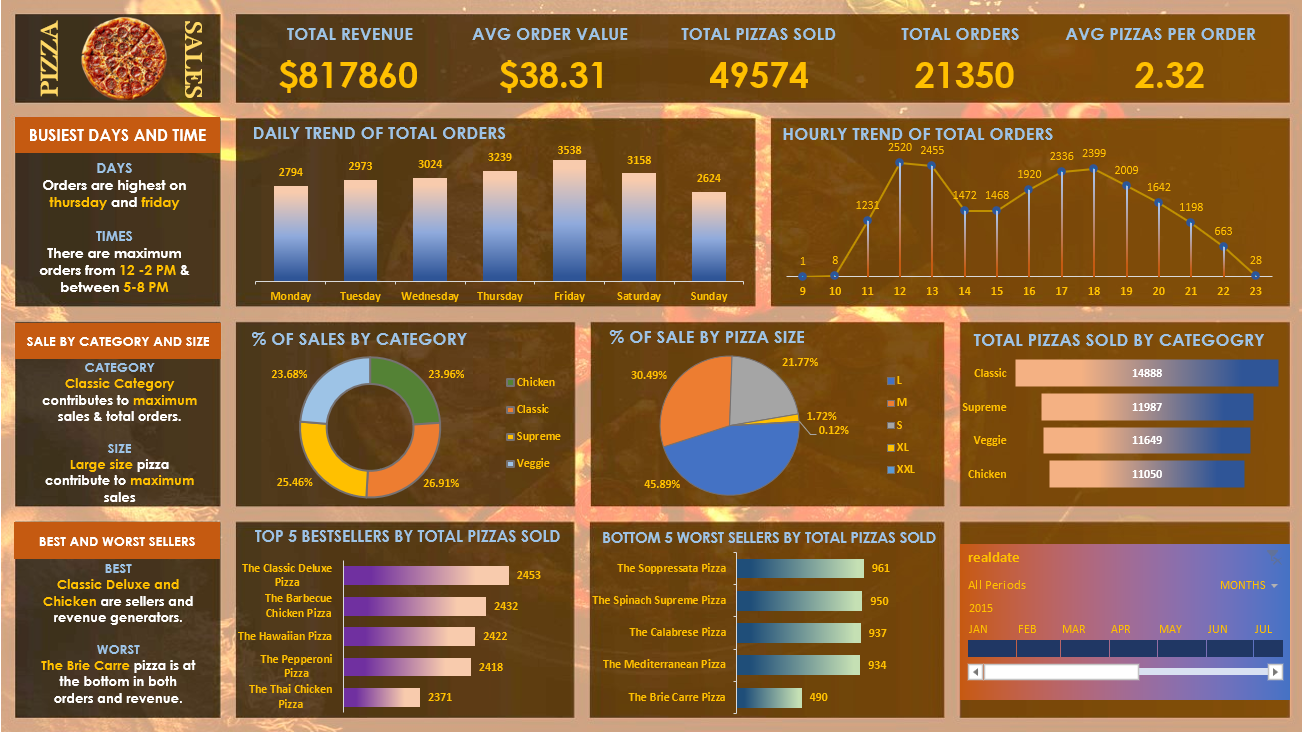

The page's visual inventory and layout, read from the dashboard file:
{"tool":"powerbi","page":{"name":"Home","canvas":[1500,820],"ordinal":0},"visuals":[{"type":"cardVisual","fields":{"Data":["pizza_sales.Total Revenue","pizza_sales.Avg Order Value","pizza_sales.Total pizzas sold","pizza_sales.Total Orders","pizza_sales.Avg pizza sold per order"]},"box":[243.4,97.7,1235.6,158.6],"z":0},{"type":"shape","box":[22.1,11.1,1458.7,86.7],"z":1000},{"type":"textbox","box":[593.8,18.4,317.2,47.9],"z":2000},{"type":"image","box":[566.1,11.1,53.5,64.5],"z":3000},{"type":"textbox","box":[665.7,59,169.7,38.7],"z":4000},{"type":"shape","box":[243.4,256.3,617.8,284],"z":5000},{"type":"columnChart","title":"Daily trend of Total orders","fields":{"Category":["pizza_sales.orderday name"],"Y":["pizza_sales.Total Orders"]},"box":[260,271.1,601.2,256.3],"z":6000},{"type":"shape","box":[868.6,256.3,612.2,284],"z":7000},{"type":"areaChart","title":"Monthly trend of Total orders","fields":{"Category":["pizza_sales.Month init"],"Y":["pizza_sales.Total Orders"]},"box":[888.3,271.7,580,255],"z":8000},{"type":"shape","box":[243.3,535.6,403.3,284.4],"z":9000},{"type":"shape","box":[654,536,404,284],"z":10000},{"type":"shape","box":[1064,536,404,284],"z":11000},{"type":"donutChart","title":"% of sale by pizza_category","fields":{"Y":["pizza_sales.Total Revenue"],"Category":["pizza_sales.pizza_category"]},"box":[260,548.9,376.7,256.7],"z":12000},{"type":"donutChart","title":"% of sale by pizza size","fields":{"Y":["pizza_sales.Total Revenue"],"Category":["pizza_sales.pizza_size"]},"box":[672.9,550,377.1,257.1],"z":13000},{"type":"funnel","fields":{"Y":["pizza_sales.Total pizzas sold"],"Category":["pizza_sales.pizza_category"]},"box":[1082.9,550,367.1,255.7],"z":14000},{"type":"shape","box":[22.5,98.8,221.2,721.2],"z":15000},{"type":"textbox","box":[32.5,271.2,202.5,30],"z":16000},{"type":"textbox","box":[32.5,298.8,202.5,227.5],"z":17000},{"type":"textbox","box":[32.5,548.8,202.5,30],"z":18000},{"type":"textbox","box":[33.3,578.9,200,217.8],"z":19000},{"type":"slicer","fields":{"Values":["pizza_sales.pizza_category"]},"box":[1000,26,222,80],"z":20000},{"type":"slicer","fields":{"Values":["pizza_sales.order_date"]},"box":[1236,14,244,80],"z":21000},{"type":"pageNavigator","box":[34,128,200,50],"z":21001},{"type":"pageNavigator","box":[34,192,200,50],"z":21002},{"type":"image","box":[178.9,127.2,53.5,49.8],"z":21003}]}

Visuals, with their boxes in screenshot pixels (x1, y1, x2, y2), scaled from the page's 1500x820 canvas onto the 1303x733 screenshot:
cardVisual - pizza_sales.Total Revenue x pizza_sales.Avg Order Value: Rect(211, 87, 1285, 229)
shape: Rect(19, 10, 1286, 87)
textbox: Rect(516, 16, 791, 59)
image: Rect(492, 10, 538, 68)
textbox: Rect(578, 53, 726, 87)
shape: Rect(211, 229, 748, 483)
"Daily trend of Total orders" columnChart: Rect(226, 242, 748, 471)
shape: Rect(755, 229, 1286, 483)
"Monthly trend of Total orders" areaChart: Rect(772, 243, 1275, 471)
shape: Rect(211, 479, 562, 732)
shape: Rect(568, 479, 919, 732)
shape: Rect(924, 479, 1275, 732)
"% of sale by pizza_category" donutChart: Rect(226, 491, 553, 720)
"% of sale by pizza size" donutChart: Rect(585, 492, 912, 721)
funnel - pizza_sales.Total pizzas sold x pizza_sales.pizza_category: Rect(941, 492, 1260, 720)
shape: Rect(20, 88, 212, 732)
textbox: Rect(28, 242, 204, 269)
textbox: Rect(28, 267, 204, 470)
textbox: Rect(28, 491, 204, 517)
textbox: Rect(29, 517, 203, 712)
slicer - pizza_sales.pizza_category: Rect(869, 23, 1062, 95)
slicer - pizza_sales.order_date: Rect(1074, 13, 1286, 84)
pageNavigator: Rect(30, 114, 203, 159)
pageNavigator: Rect(30, 172, 203, 216)
image: Rect(155, 114, 202, 158)
